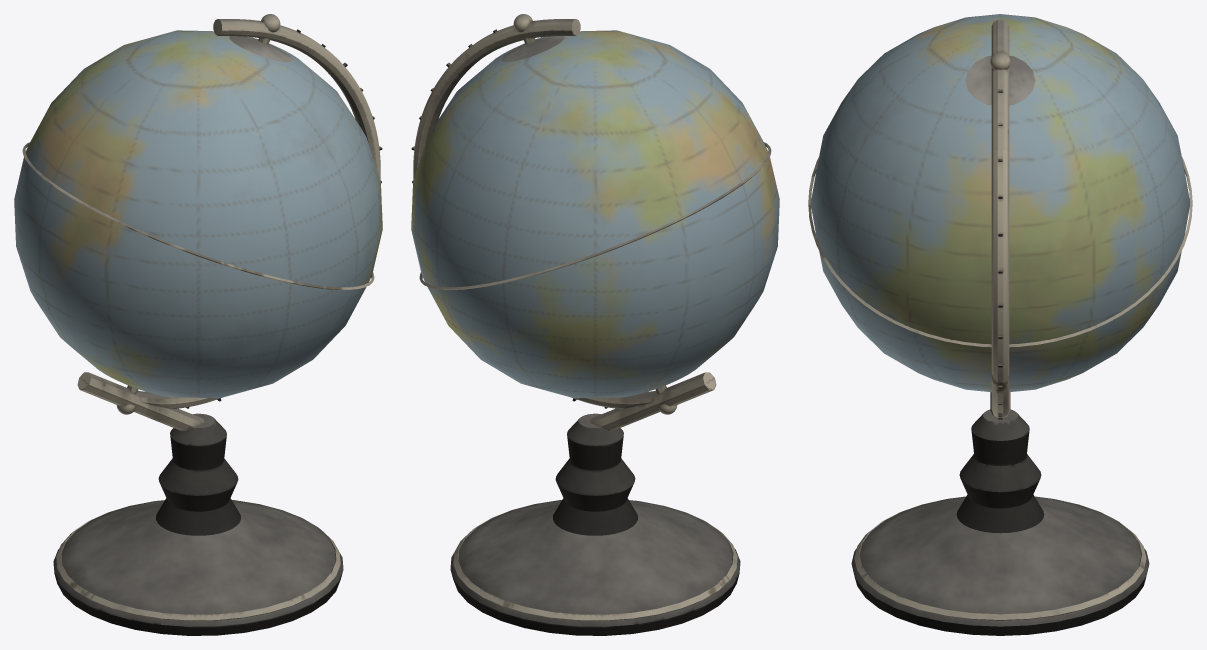
The model's file is SM_Globe.fbx.
3 views of the same model, side by side, from view 1: azimuth 30°, elevation 25°; view 2: azimuth 150°, elevation 25°; view 3: azimuth 270°, elevation 25° (orthographic). The views are drawn at different scales.
Parts seen in each view (by area): view 1: SM_Globe; view 2: SM_Globe; view 3: SM_Globe.
Boxes of the visible parts, box(x1,y1,x2,y2) form: SM_Globe: box(14, 14, 382, 635); SM_Globe: box(411, 14, 779, 635); SM_Globe: box(808, 14, 1192, 635).
Size of the model in its own units: 0.2773 by 0.4267 by 0.2632.
Materials: 1 (1 with a texture image).
